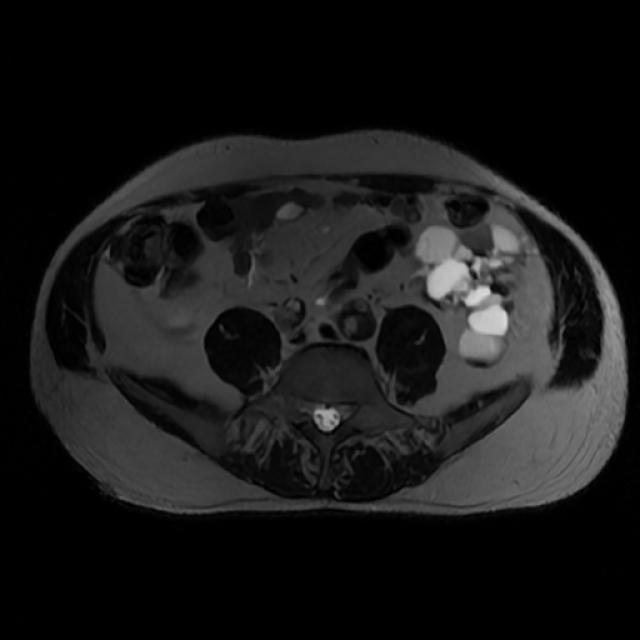sol: (413, 224, 526, 369)
